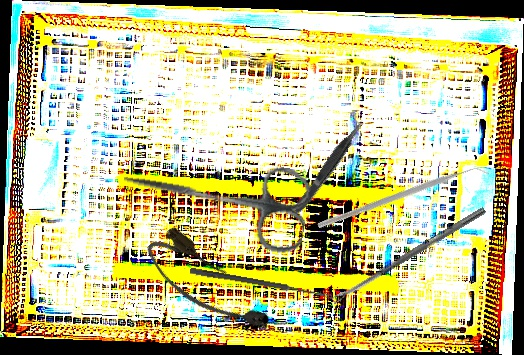Cannula: (137, 221, 278, 350)
Chopper: (316, 109, 491, 291)
Iris Scissors: (116, 140, 314, 257)
Surgical Spoon: (330, 205, 487, 305), (189, 267, 333, 300)
Tissue Forceps: (289, 117, 369, 216)
